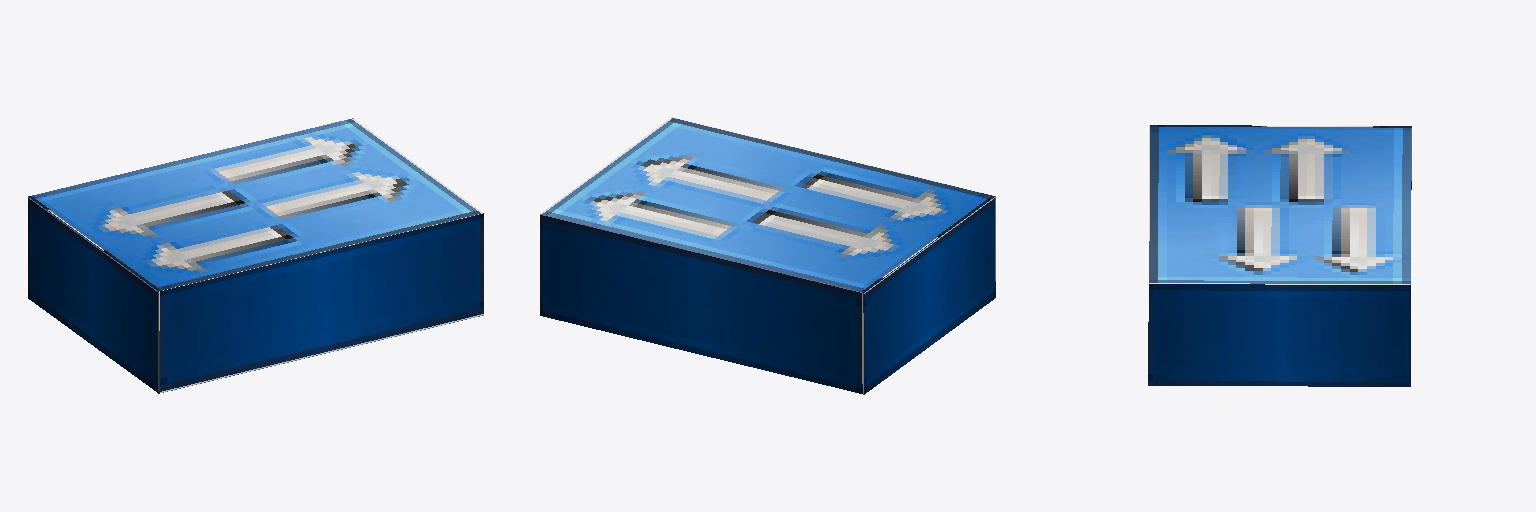
3 views of the same model, side by side, from view 1: azimuth 30°, elevation 25°; view 2: azimuth 150°, elevation 25°; view 3: azimuth 270°, elevation 25° (orthographic).
Parts seen in each view (by area): view 1: Cube; view 2: Cube; view 3: Cube.
Part boxes in pixels (left/top/right/bottom): Cube: left=28, top=118, right=483, bottom=393; Cube: left=540, top=117, right=995, bottom=394; Cube: left=1148, top=125, right=1411, bottom=386.
Size of the model in its own units: 2 by 0.6088 by 1.41.
1 materials, 1 textured.